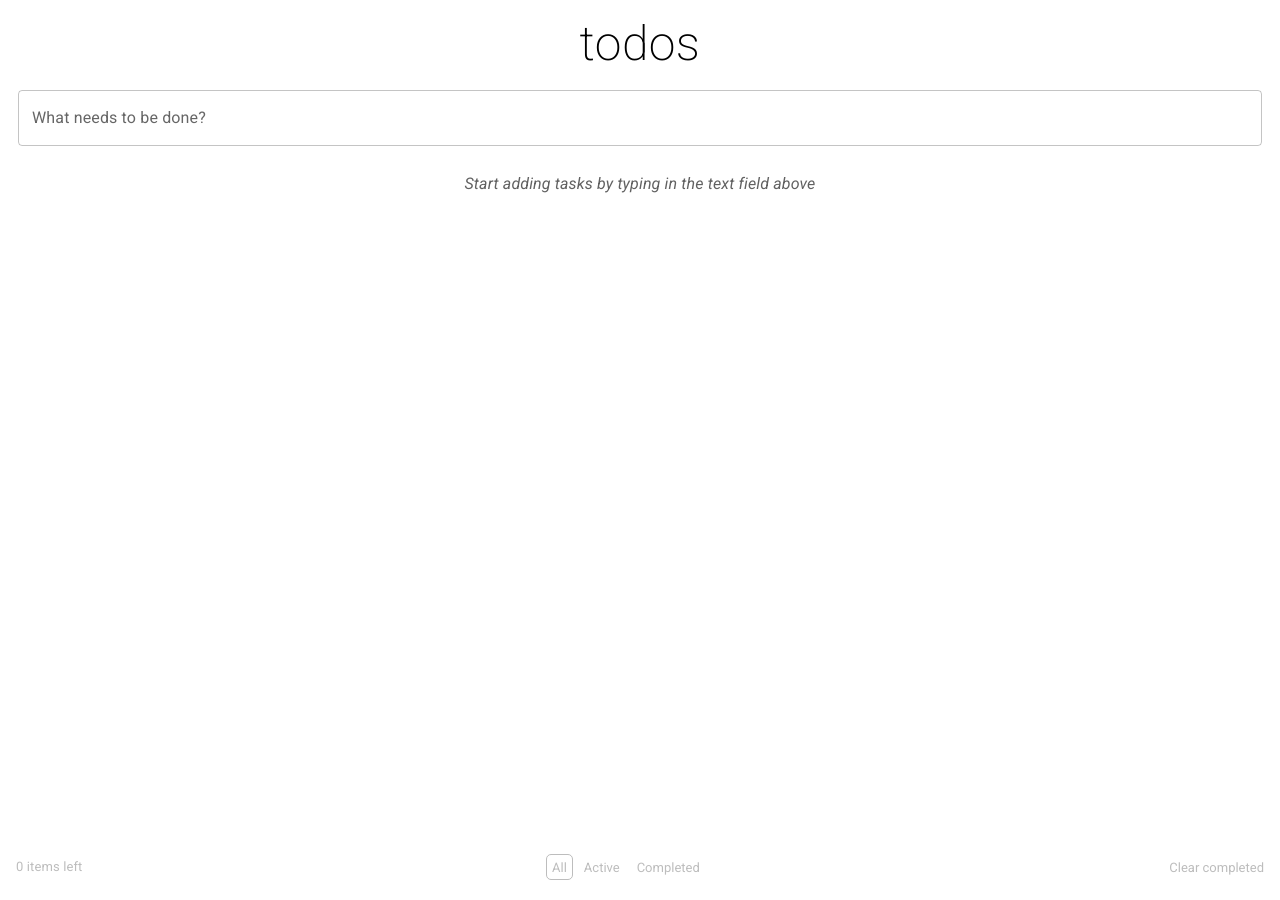
App › фильтрация задач
Type "Active Task" into the field labelled "What needs to be done?". click: point(640, 118)
box: [18,90,1262,146]
Press Enter in the field labelled "What needs to be done?", box [18,90,1262,146]
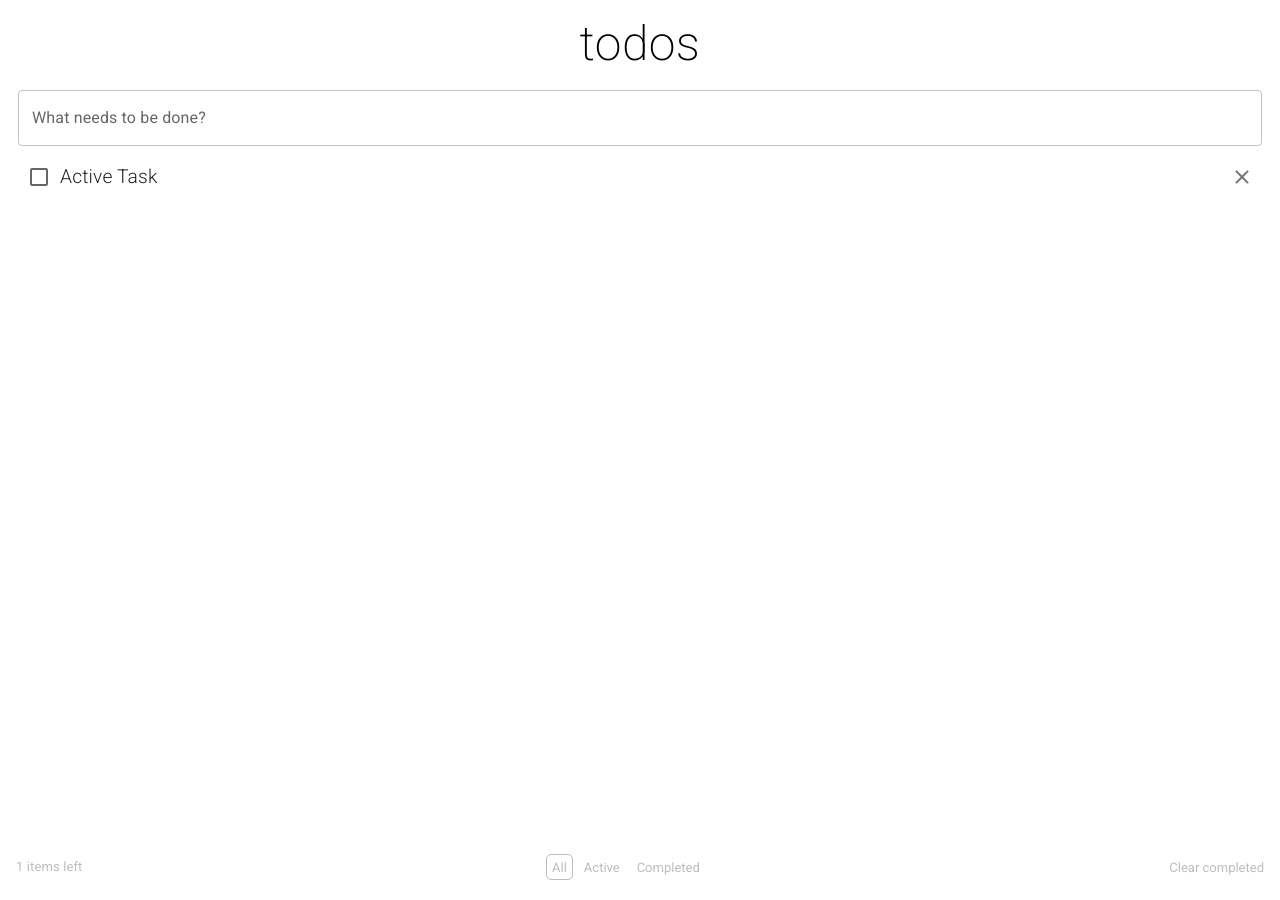
Check: the text "Active Task" is shown, box [60,165,158,188]
Type "Completed Task" into the field labelled "What needs to be done?". click: point(640, 118)
box: [18,90,1262,146]
Press Enter in the field labelled "What needs to be done?", box [18,90,1262,146]
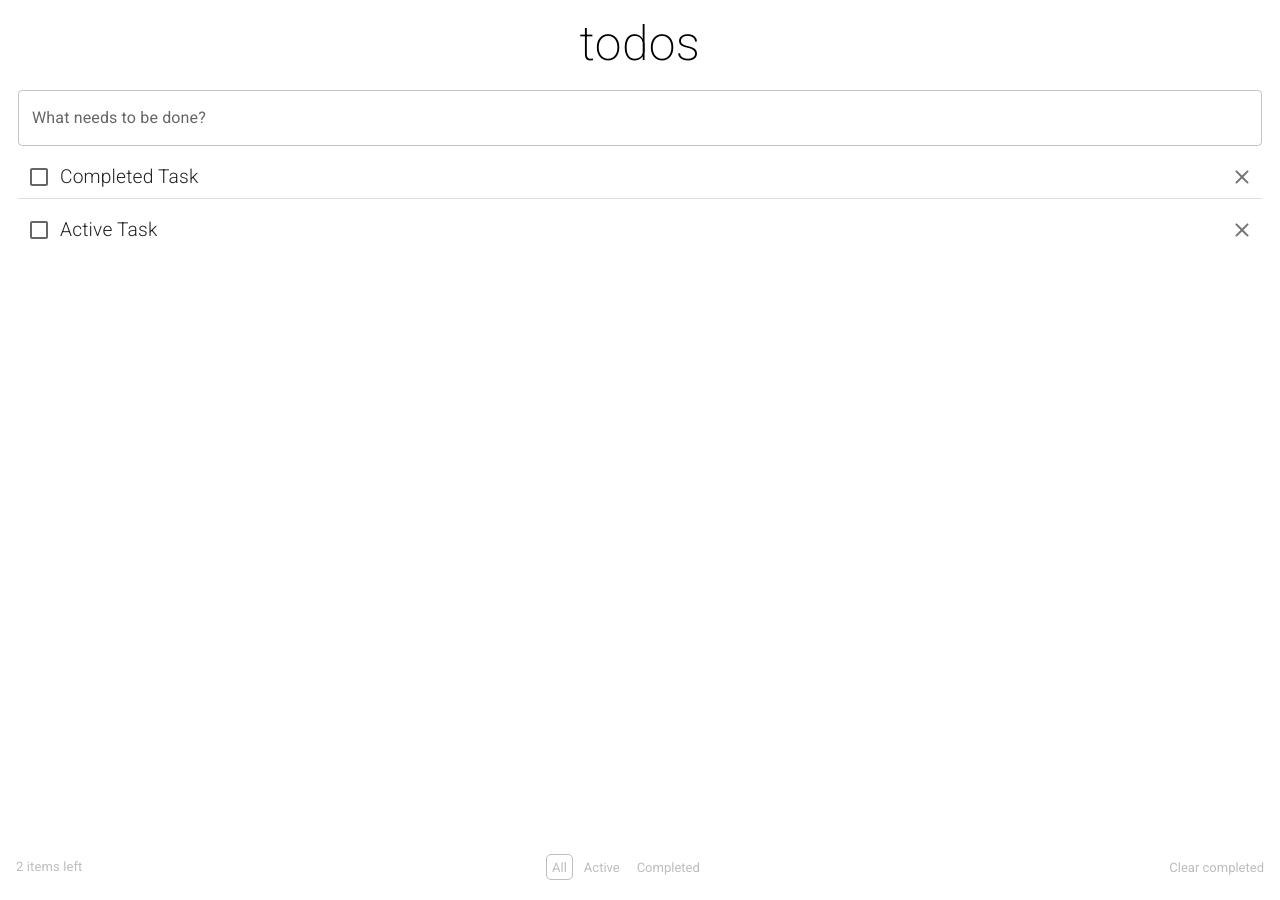
Check: the text "Completed Task" is shown, box [60,165,198,188]
Click the checkbox next to "Completed Task". click: point(39, 177)
box: [27,165,51,189]
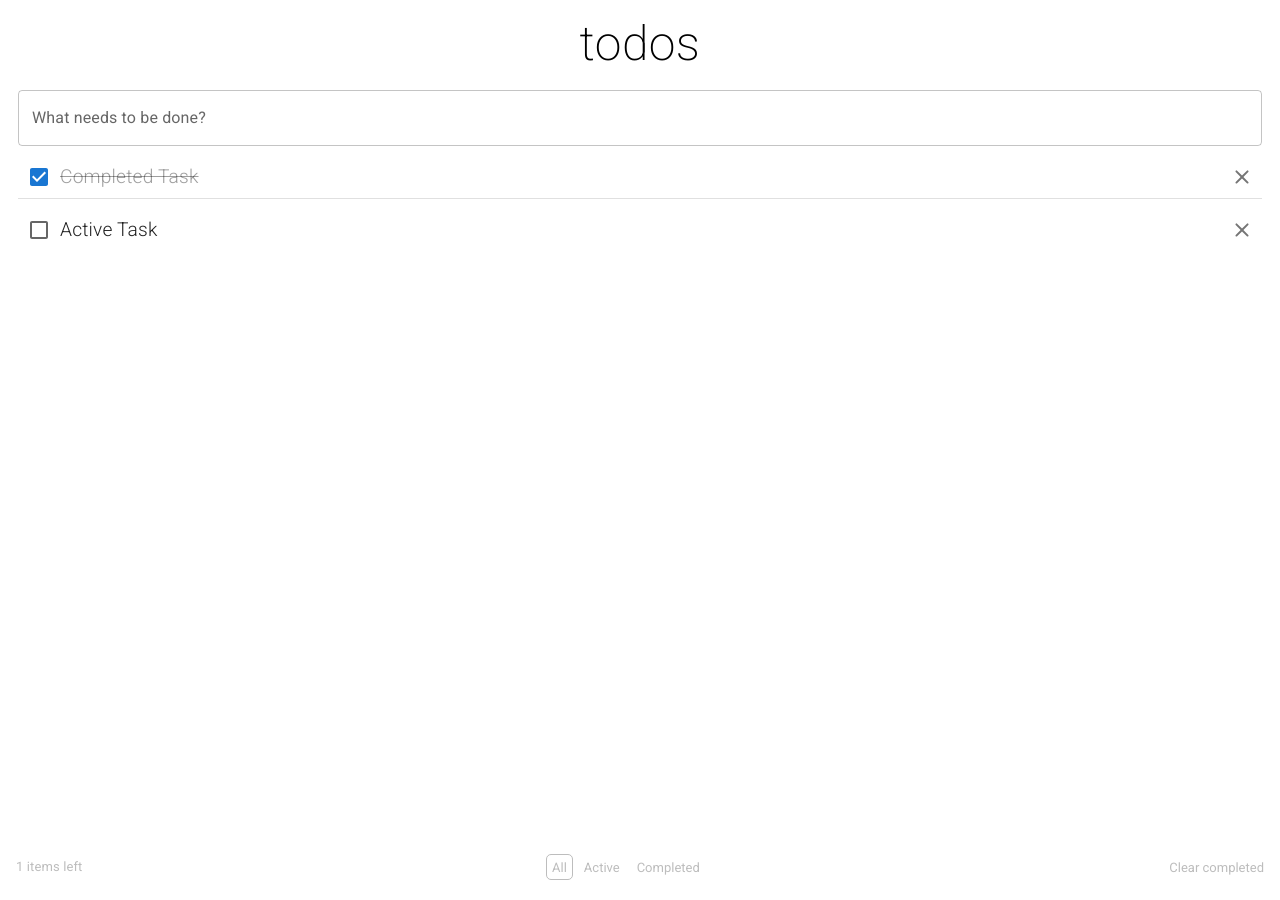
Click the button "Active". click: point(602, 867)
box: [578,854,626,880]
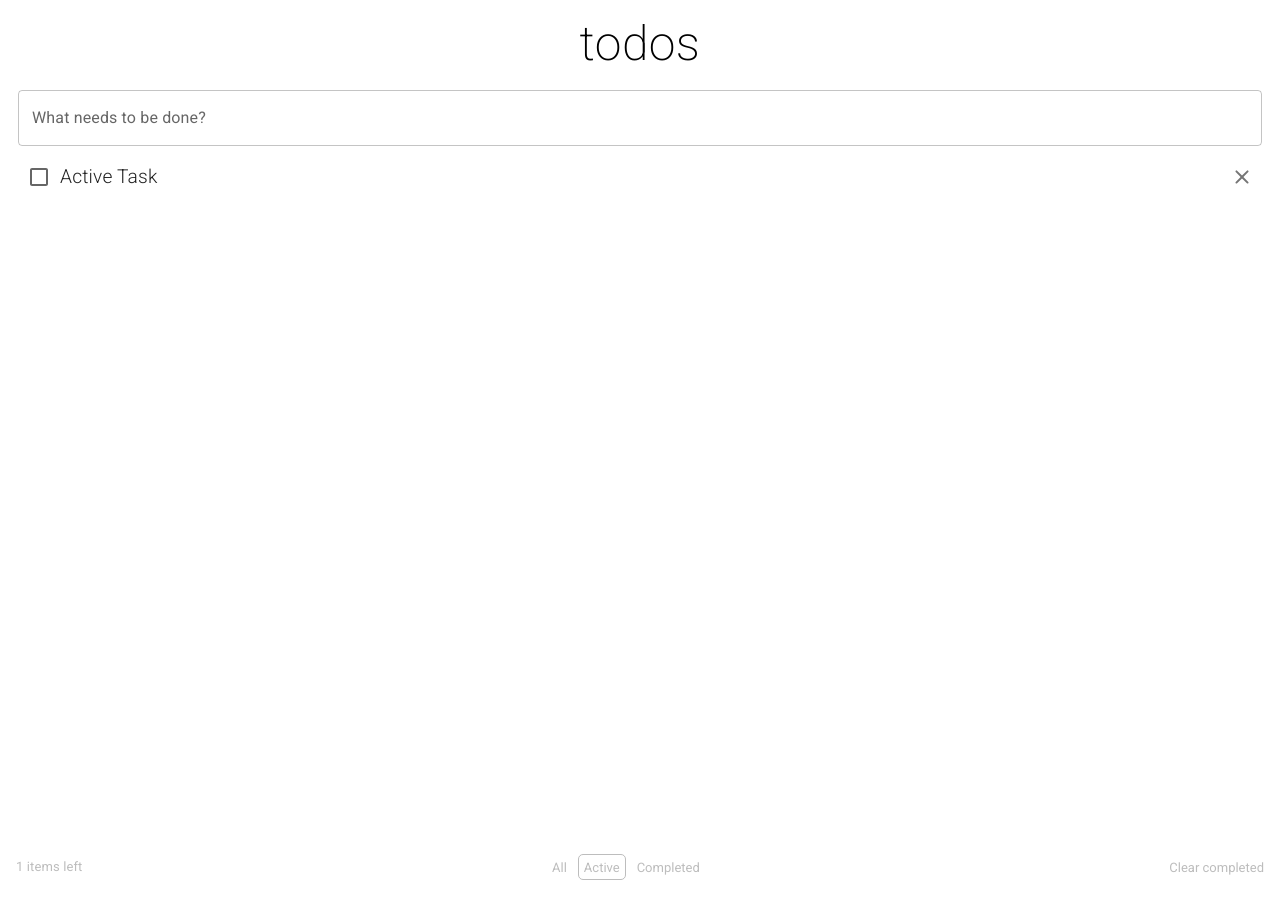
Check: the text "Active Task" is shown, box [60,165,158,188]
Check: the text "Completed Task" is gone
Click the button "Completed". click: point(668, 867)
box: [631,854,706,880]
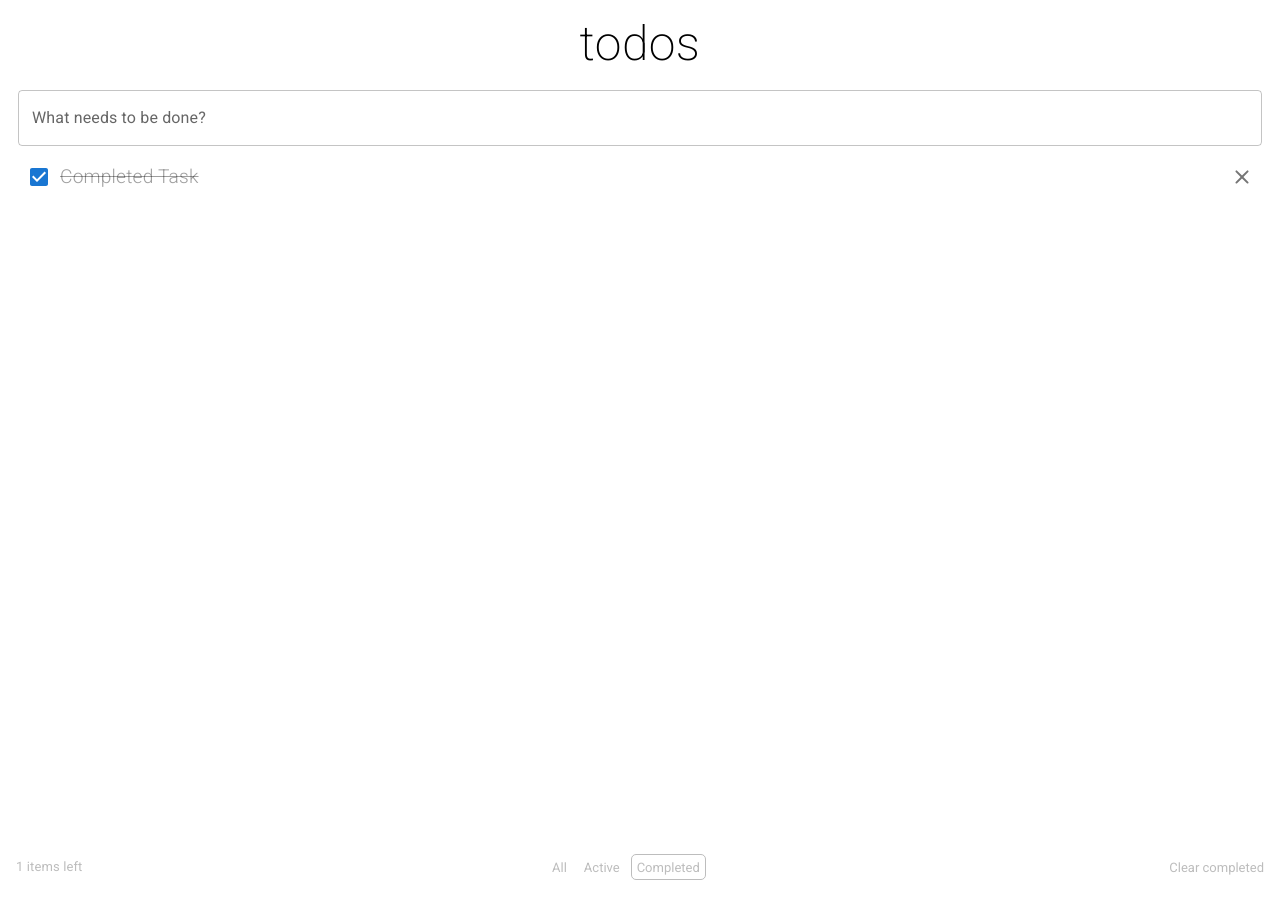
Check: the text "Active Task" is gone
Check: the text "Completed Task" is shown, box [60,165,198,188]
Click the button "All". click: point(559, 867)
box: [546,854,573,880]
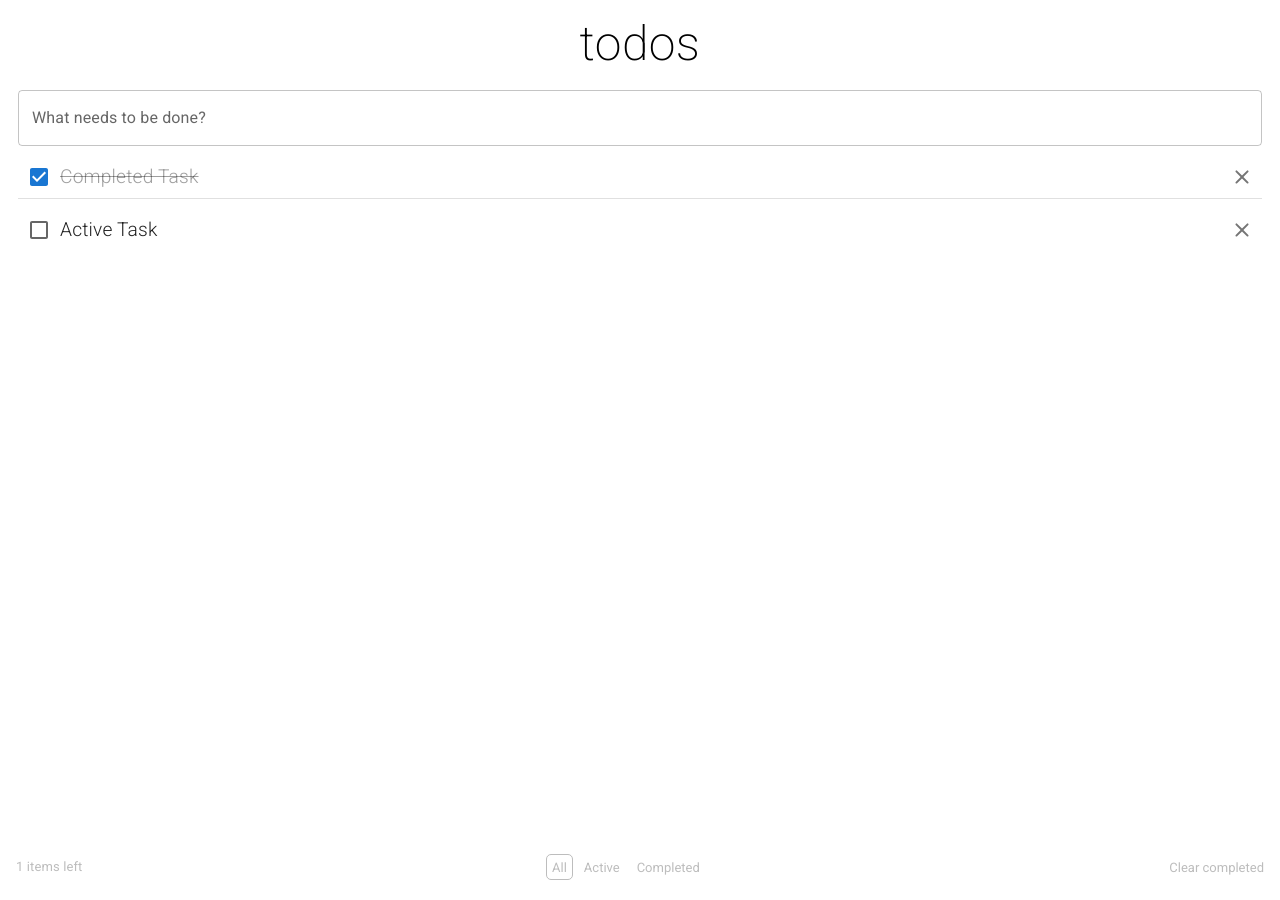
Check: the text "Completed Task" is shown, box [60,165,198,188]
Check: the text "Active Task" is shown, box [60,218,158,241]
